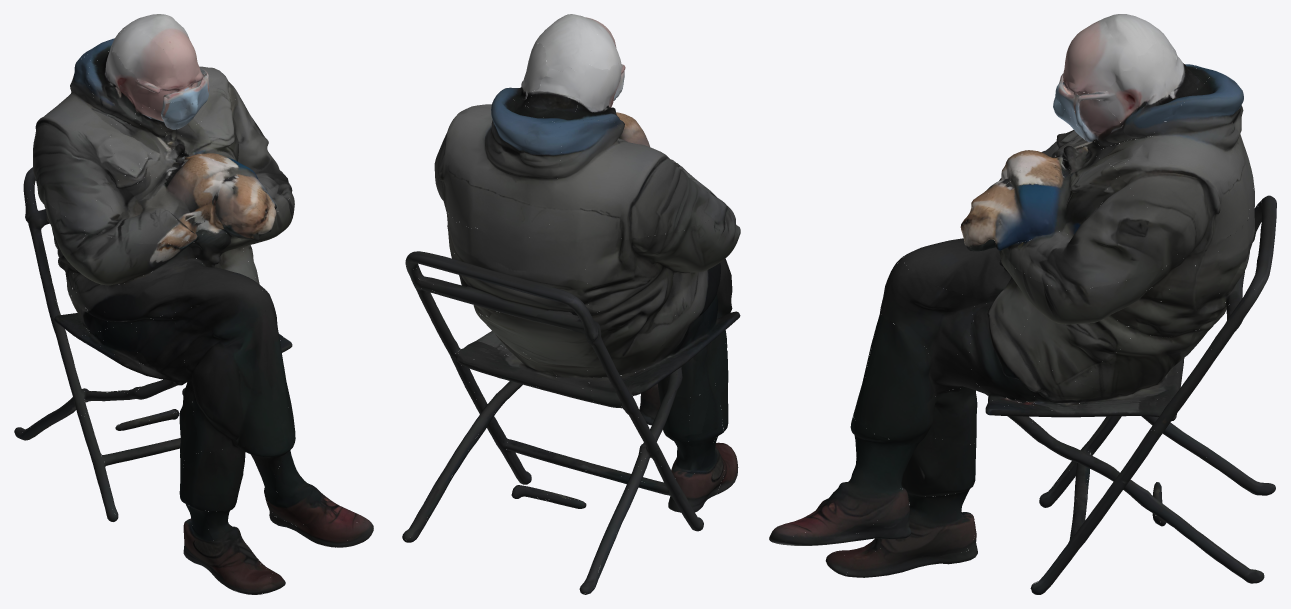
The model's file is bernie4.glb.
3 views of the same model, side by side, from view 1: azimuth 30°, elevation 25°; view 2: azimuth 150°, elevation 25°; view 3: azimuth 270°, elevation 25° (orthographic). The views are drawn at different scales.
Parts seen in each view (by area): view 1: tripo_node_75c01138-b44a-4c11-bd2d-d750a32b3823; view 2: tripo_node_75c01138-b44a-4c11-bd2d-d750a32b3823; view 3: tripo_node_75c01138-b44a-4c11-bd2d-d750a32b3823.
Part boxes in pixels (x1,y1,x2,y2): tripo_node_75c01138-b44a-4c11-bd2d-d750a32b3823: (14,14,373,594); tripo_node_75c01138-b44a-4c11-bd2d-d750a32b3823: (402,14,740,594); tripo_node_75c01138-b44a-4c11-bd2d-d750a32b3823: (769,14,1276,594).
Size of the model in its own units: 1.64 by 3.32 by 2.71.
1 material, 1 textured.
